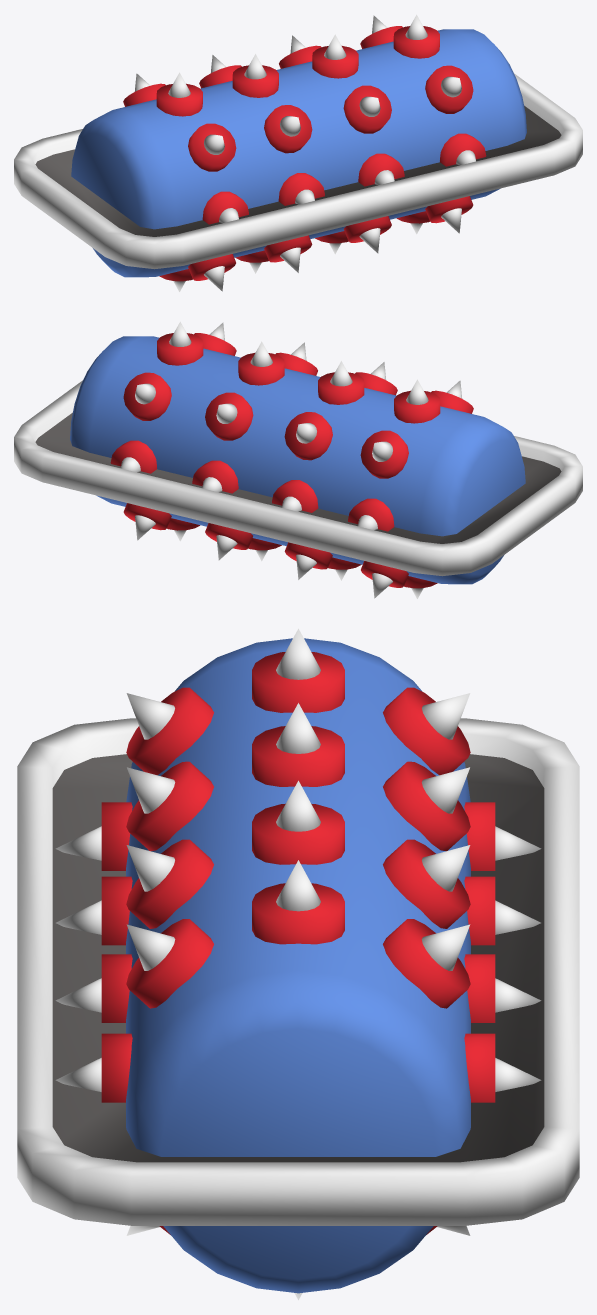
Rendered from Obstacle 18 V1.fbx.
The picture shows the model from 3 angles, top to bottom: view 1: azimuth 30°, elevation 25°; view 2: azimuth 150°, elevation 25°; view 3: azimuth 270°, elevation 25°; orthographic projection. The views are drawn at different scales.
Parts seen in each view (by area): view 1: O18 Part 2, O18 Part 1; view 2: O18 Part 2, O18 Part 1; view 3: O18 Part 2, O18 Part 1.
Part boxes in pixels (box(x1,y1,x2,y2)): O18 Part 2: box(71, 14, 526, 291); O18 Part 1: box(14, 73, 582, 269); O18 Part 2: box(70, 321, 525, 598); O18 Part 1: box(14, 380, 582, 576); O18 Part 2: box(55, 628, 541, 1300); O18 Part 1: box(17, 718, 579, 1225).
Bounding box in the file's own units: 148 × 66.38 × 76.77.
1 material, 1 textured.
